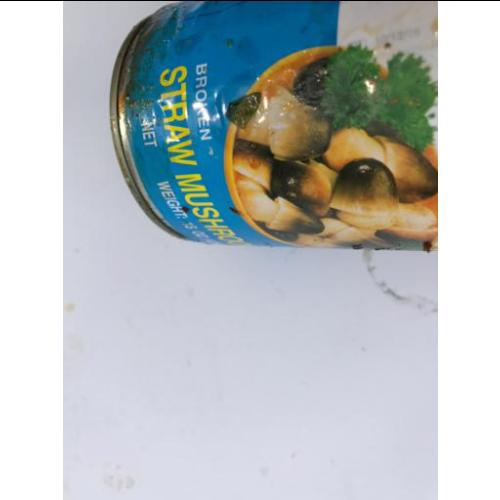metal: (110, 0, 438, 247)
